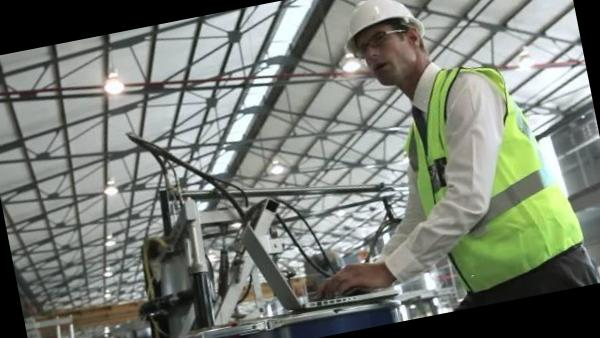Vest: (375, 56, 574, 286)
